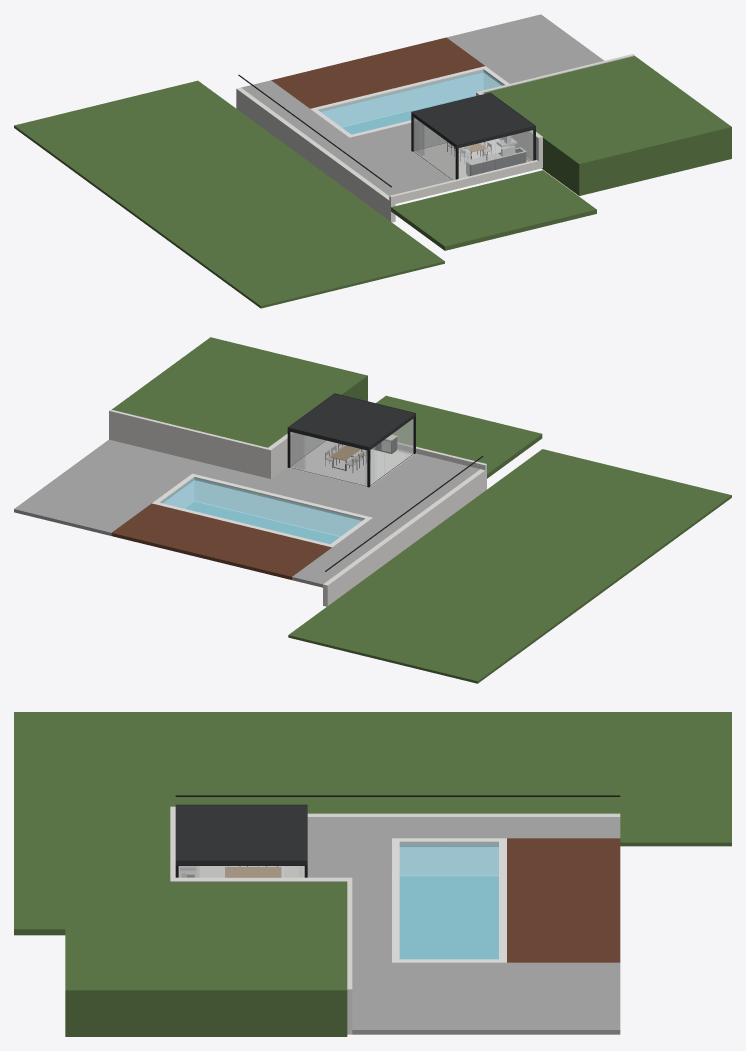
Rendered from saguramo_gazebo.glb.
3 views of the same model, one above another, from view 1: azimuth 30°, elevation 25°; view 2: azimuth 150°, elevation 25°; view 3: azimuth 270°, elevation 25° (orthographic). The views are drawn at different scales.
Visible parts, largest first — view 1: Lawn west (lower), Raised lawn east, Lawn behind, Timber deck, Paving east of pool (extent not measured), Granite paving | gazebo terrace, Pool water, West wall, Roof deck, Granite paving | west of pool, Back wall, Gazebo floor | porcelain (+5 smaller); view 2: Lawn west (lower), Raised lawn east, Paving east of pool (extent not measured), Timber deck, Granite paving | gazebo terrace, Pool water, Lawn behind, Retaining wall along pool strip, West wall, Roof deck, Gazebo floor | porcelain, Granite paving | west of pool (+6 smaller); view 3: Lawn west (lower), Raised lawn east, Paving east of pool (extent not measured), Timber deck, Lawn behind, Pool water, Pool floor, Roof deck, Granite paving | gazebo terrace, Granite paving | west of pool, Granite paving | strip along pool, West wall (+9 smaller).
Part boxes in pixels (left/top/right/bottom): Lawn west (lower): left=14, top=80, right=444, bottom=308; Raised lawn east: left=483, top=56, right=731, bottom=195; Lawn behind: left=391, top=170, right=596, bottom=250; Timber deck: left=271, top=37, right=484, bottom=108; Paving east of pool (extent not measured): left=446, top=14, right=604, bottom=83; Granite paving | gazebo terrace: left=320, top=121, right=530, bottom=195; Pool water: left=319, top=70, right=502, bottom=134; West wall: left=236, top=87, right=395, bottom=222; Roof deck: left=412, top=93, right=534, bottom=147; Granite paving | west of pool: left=241, top=80, right=349, bottom=144; Back wall: left=389, top=160, right=542, bottom=204; Gazebo floor | porcelain: left=412, top=138, right=529, bottom=180; Lawn west (lower): left=288, top=449, right=731, bottom=683; Raised lawn east: left=112, top=337, right=367, bottom=447; Paving east of pool (extent not measured): left=14, top=450, right=191, bottom=535; Timber deck: left=111, top=503, right=331, bottom=579; Granite paving | gazebo terrace: left=257, top=440, right=480, bottom=524; Pool water: left=161, top=478, right=363, bottom=543; Lawn behind: left=376, top=395, right=542, bottom=478; Retaining wall along pool strip: left=109, top=409, right=267, bottom=477; West wall: left=323, top=469, right=486, bottom=606; Roof deck: left=288, top=394, right=415, bottom=450; Gazebo floor | porcelain: left=288, top=440, right=414, bottom=487; Granite paving | west of pool: left=292, top=517, right=403, bottom=587; Lawn west (lower): left=14, top=712, right=731, bottom=846; Raised lawn east: left=65, top=882, right=347, bottom=1036; Paving east of pool (extent not measured): left=392, top=962, right=620, bottom=1034; Timber deck: left=507, top=838, right=620, bottom=962; Lawn behind: left=14, top=821, right=170, bottom=935; Pool water: left=399, top=843, right=498, bottom=959; Pool floor: left=400, top=876, right=498, bottom=958; Roof deck: left=176, top=805, right=306, bottom=865; Granite paving | gazebo terrace: left=307, top=817, right=391, bottom=918; Granite paving | west of pool: left=392, top=817, right=620, bottom=838; Granite paving | strip along pool: left=352, top=918, right=391, bottom=1034; West wall: left=307, top=813, right=620, bottom=846.
Size of what is drawn, in the model's own units: 32 by 4 by 28.
